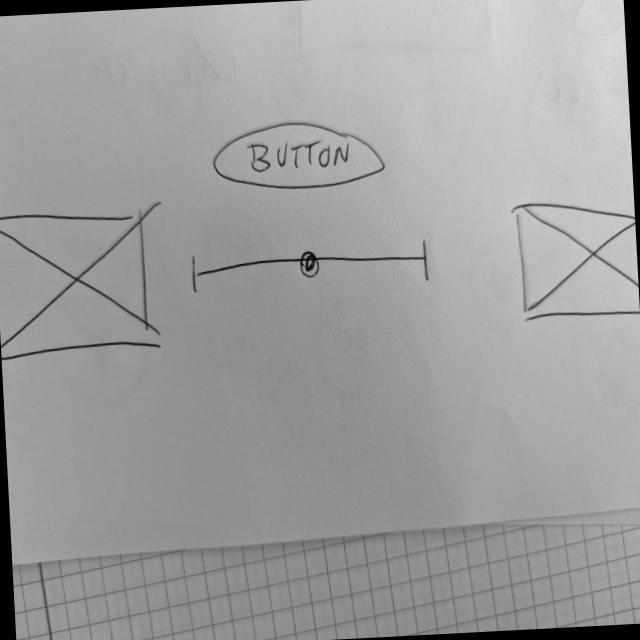button: (211, 115, 391, 201)
image: (1, 206, 156, 363), (509, 192, 640, 330)
slider: (188, 237, 435, 298)
